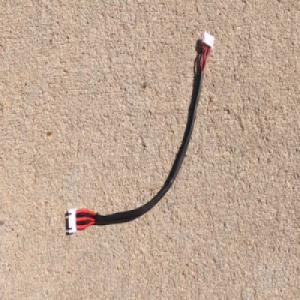Wire: (67, 29, 215, 237)
